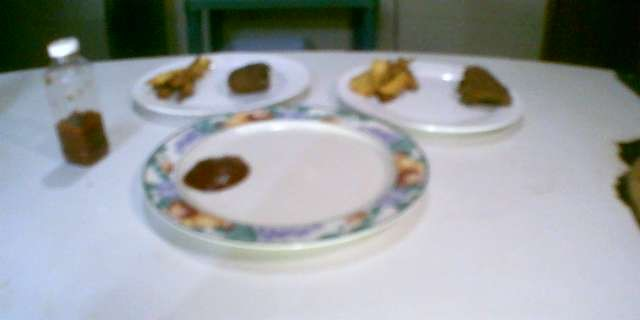chicken: (450, 57, 530, 113), (220, 55, 274, 102)
ketchup_bottle: (35, 31, 115, 171)
ketchup_portion: (182, 148, 252, 194)
potatoe_fries: (347, 51, 426, 108), (140, 48, 215, 106)
